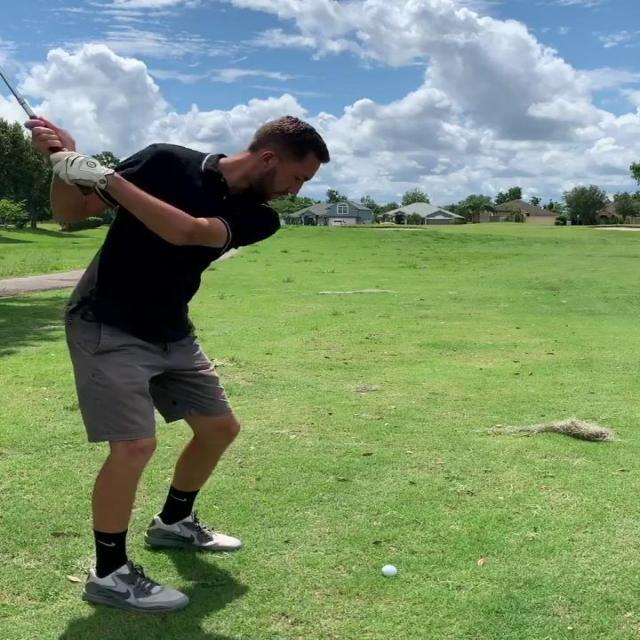GolfBall: (381, 560, 405, 576)
